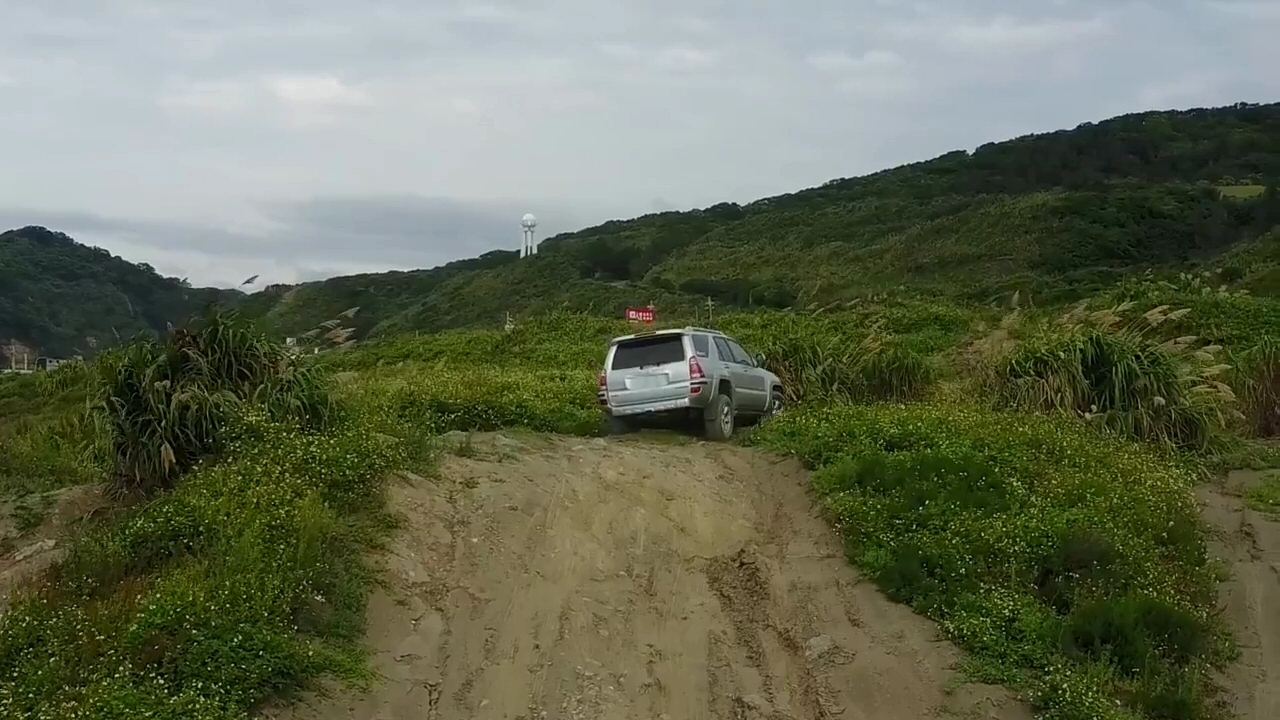araba: (592, 323, 789, 443)
